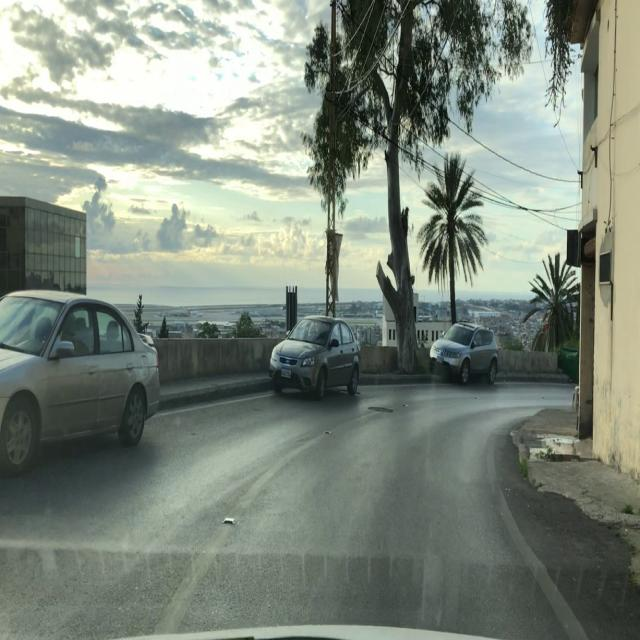Pothole: (366, 404, 396, 418)
